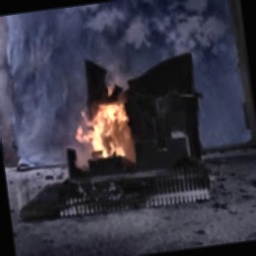fire: (67, 84, 134, 163)
